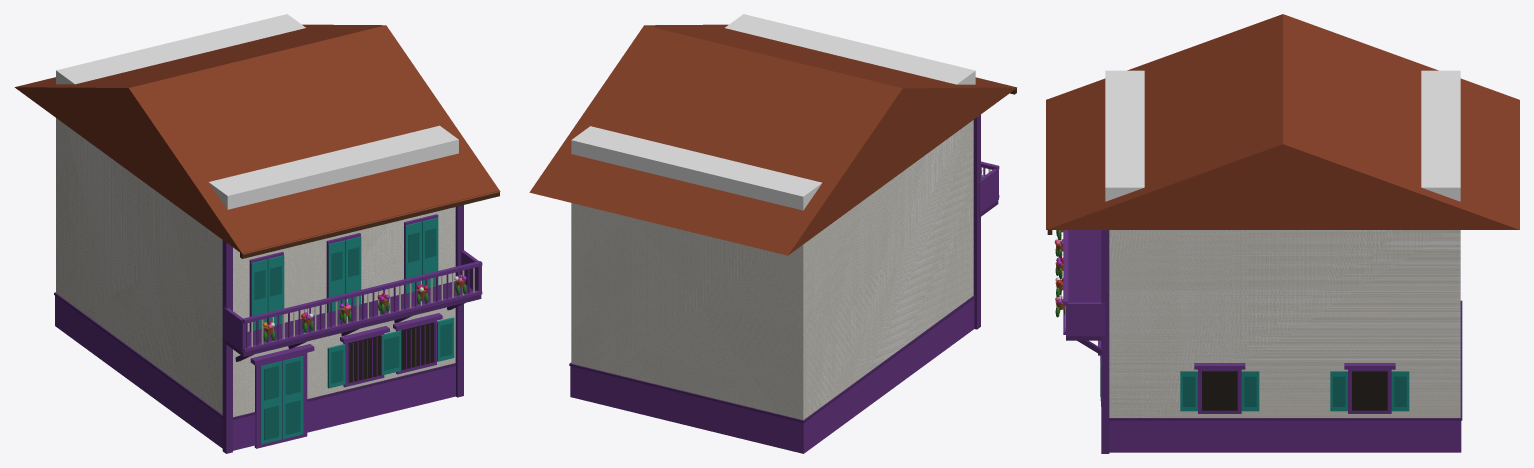
The model's file is casa_cafetera_morado.glb.
The picture shows the model from 3 angles, left to right: view 1: azimuth 30°, elevation 25°; view 2: azimuth 150°, elevation 25°; view 3: azimuth 270°, elevation 25°; orthographic projection. The views are drawn at different scales.
Visible parts, largest first — view 1: casa_cafetera_morado_Malla, COL_0; view 2: casa_cafetera_morado_Malla, COL_0; view 3: casa_cafetera_morado_Malla, COL_0.
Part boxes in pixels (left/top/right/bottom): casa_cafetera_morado_Malla: left=14, top=24, right=500, bottom=453; COL_0: left=56, top=14, right=458, bottom=416; casa_cafetera_morado_Malla: left=529, top=24, right=1017, bottom=453; COL_0: left=571, top=14, right=975, bottom=419; casa_cafetera_morado_Malla: left=1046, top=14, right=1519, bottom=453; COL_0: left=1105, top=70, right=1460, bottom=417.
Bounding box in the file's own units: 7.8 × 8.88 × 12.
